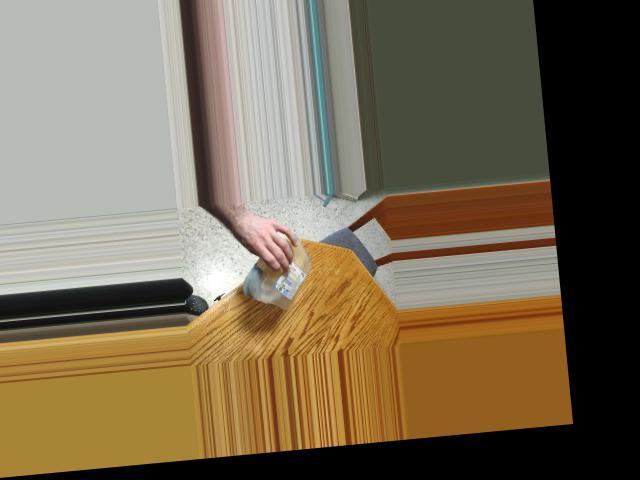cheese: (246, 224, 320, 314)
